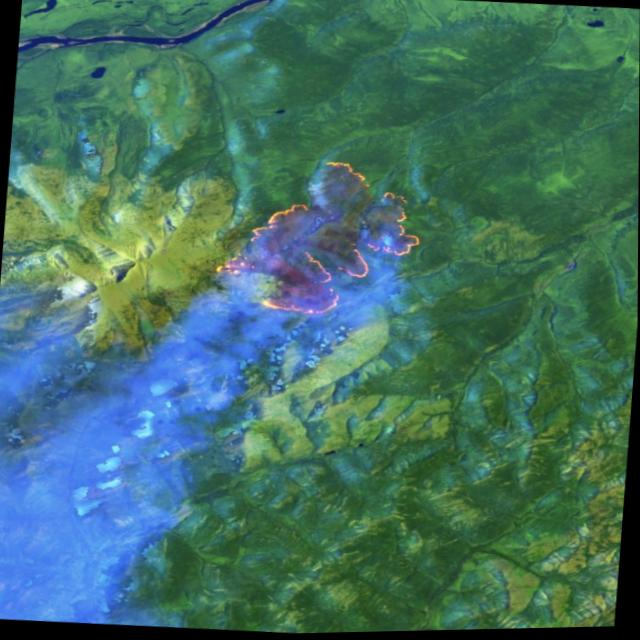fire: (204, 145, 433, 330)
